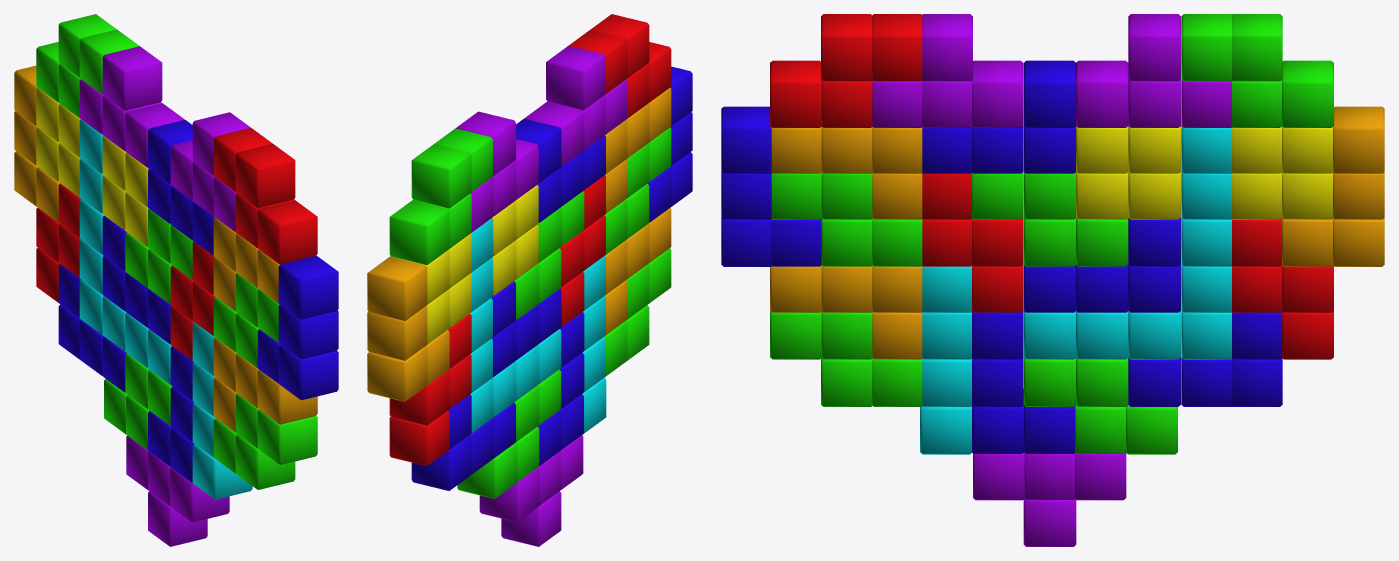
The model's file is TetrisHeart.fbx.
3 renders of one model, left to right at view 1: azimuth 30°, elevation 25°; view 2: azimuth 150°, elevation 25°; view 3: azimuth 270°, elevation 25°, orthographic. The views are drawn at different scales.
Parts seen in each view (by area): view 1: Cube.091, Cube.096, Cube.079, Cube.089, Cube.053, Cube.028, Cube.066, Cube.018, Cube.039, Cube, Cube.009, Cube.003 (+84 smaller); view 2: Cube.093, Cube.090, Cube.078, Cube.094, Cube.052, Cube.029, Cube.065, Cube.015, Cube, Cube.040, Cube.004, Cube.008 (+84 smaller); view 3: Cube.091, Cube.080, Cube.082, Cube.090, Cube.096, Cube.089, Cube.078, Cube.081, Cube.095, Cube.092, Cube.093, Cube.094 (+84 smaller).
Boxes of the visible parts, left/top/right/bottom form: Cube.091: left=102, top=46, right=162, bottom=110; Cube.096: left=235, top=144, right=295, bottom=208; Cube.079: left=278, top=255, right=338, bottom=319; Cube.089: left=257, top=200, right=317, bottom=264; Cube.053: left=278, top=344, right=338, bottom=400; Cube.028: left=257, top=410, right=317, bottom=464; Cube.066: left=278, top=305, right=338, bottom=359; Cube.018: left=235, top=434, right=295, bottom=489; Cube.039: left=257, top=370, right=317, bottom=424; Cube: left=148, top=491, right=207, bottom=546; Cube.009: left=192, top=444, right=252, bottom=499; Cube.003: left=170, top=467, right=229, bottom=522; Cube.093: left=411, top=144, right=471, bottom=208; Cube.090: left=389, top=200, right=449, bottom=264; Cube.078: left=367, top=256, right=427, bottom=320; Cube.094: left=546, top=45, right=605, bottom=110; Cube.052: left=367, top=346, right=427, bottom=401; Cube.029: left=389, top=411, right=449, bottom=465; Cube.065: left=367, top=306, right=427, bottom=360; Cube.015: left=411, top=435, right=471, bottom=490; Cube: left=501, top=491, right=561, bottom=546; Cube.040: left=389, top=370, right=449, bottom=425; Cube.004: left=479, top=467, right=539, bottom=522; Cube.008: left=457, top=443, right=517, bottom=498; Cube.091: left=1128, top=14, right=1180, bottom=81; Cube.080: left=1023, top=60, right=1075, bottom=127; Cube.082: left=1076, top=60, right=1128, bottom=127; Cube.090: left=1282, top=60, right=1333, bottom=127; Cube.096: left=821, top=14, right=872, bottom=81; Cube.089: left=770, top=60, right=821, bottom=127; Cube.078: left=1333, top=106, right=1384, bottom=173; Cube.081: left=972, top=60, right=1023, bottom=127; Cube.095: left=872, top=14, right=922, bottom=81; Cube.092: left=1181, top=14, right=1231, bottom=81; Cube.093: left=1232, top=14, right=1282, bottom=81; Cube.094: left=922, top=14, right=972, bottom=81.
Size of the model in its own units: 200 by 2153 by 2524.
